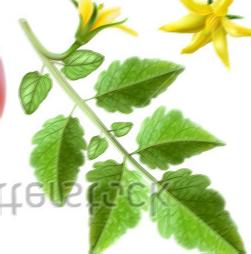Tomato leaf: (67, 147, 164, 254), (118, 109, 251, 170), (150, 175, 251, 254), (25, 101, 92, 215), (95, 53, 202, 116)
